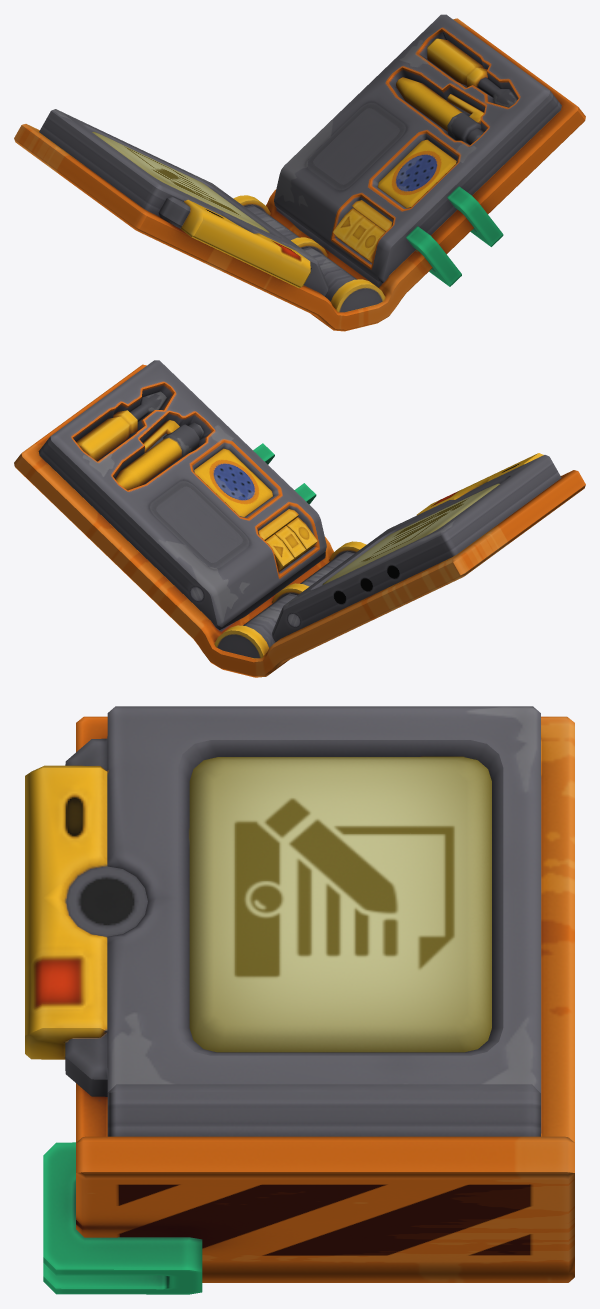
File: hvs_logfiles_logbook.fbx
3 views of the same model, one above another, from view 1: azimuth 30°, elevation 25°; view 2: azimuth 150°, elevation 25°; view 3: azimuth 270°, elevation 25° (orthographic). The views are drawn at different scales.
Parts seen in each view (by area): view 1: hvs_logfiles_logbook; view 2: hvs_logfiles_logbook; view 3: hvs_logfiles_logbook.
Part boxes in pixels (x1,y1,x2,y2): hvs_logfiles_logbook: (14,14,585,331); hvs_logfiles_logbook: (14,360,585,677); hvs_logfiles_logbook: (25,706,574,1294).
Size of the model in its own units: 2.24 by 0.8876 by 1.18.
